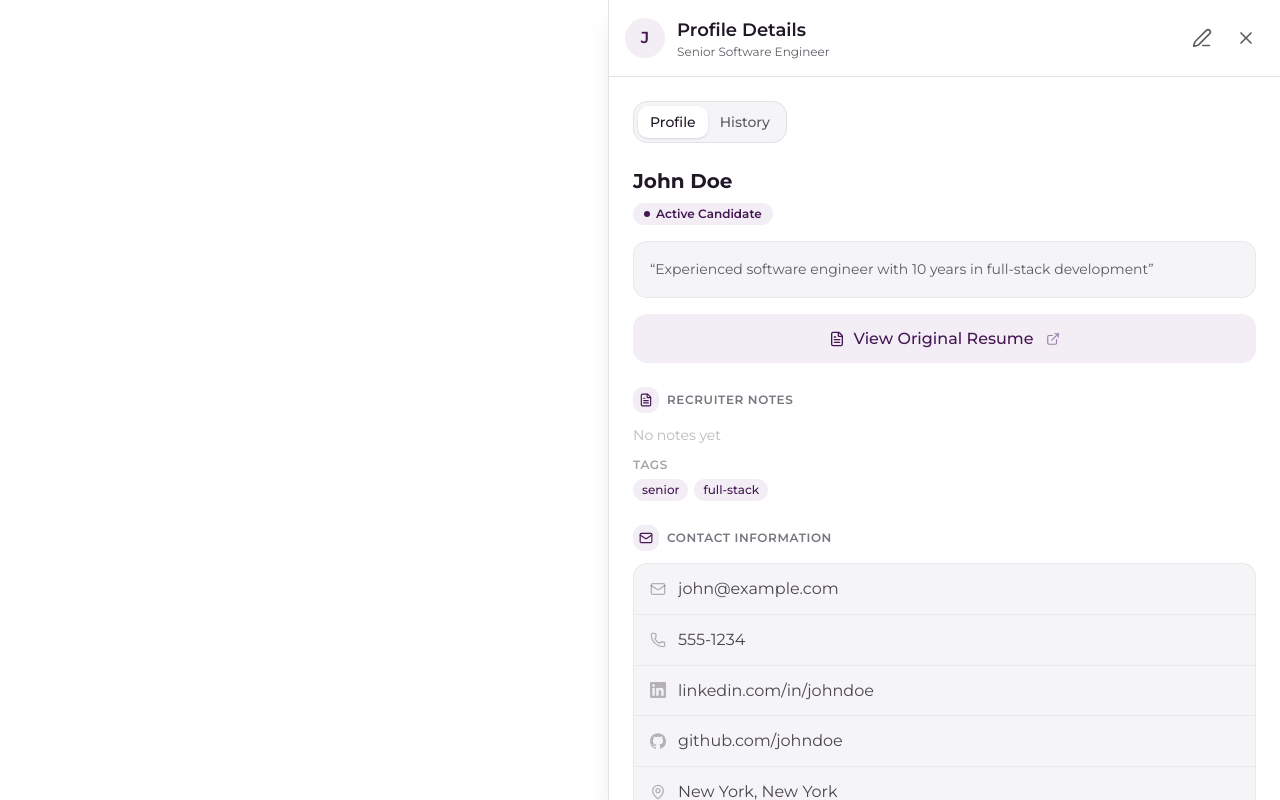
Test: ProfileDetailPanel › Save changes › shows saving state during save
Click the button named "Edit profile": [1202, 38] box [1184,20,1220,56]
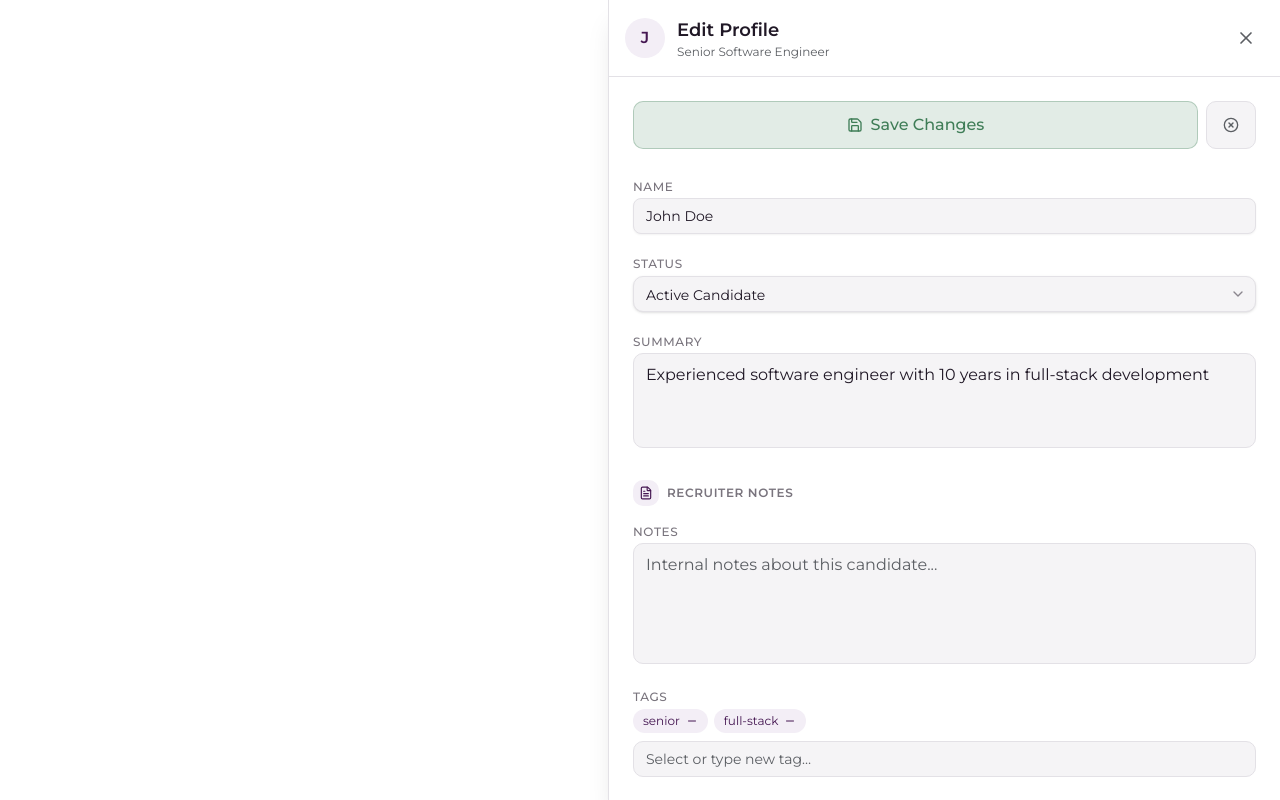
Change name
Replace the text in the field with placeholder "Full name" with "New Name": [944, 216] box [633,198,1256,234]
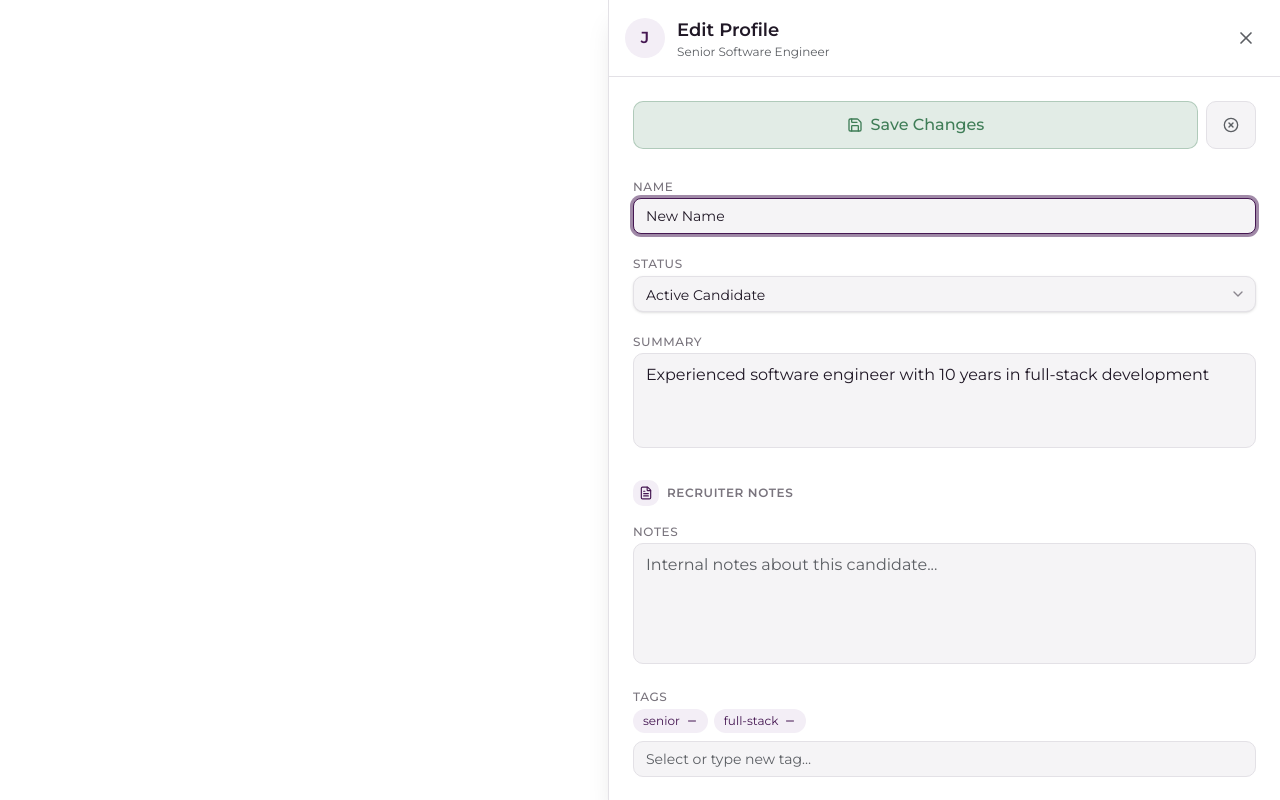
Click save
Click the button "Save Changes": [916, 125] box [633,101,1198,149]
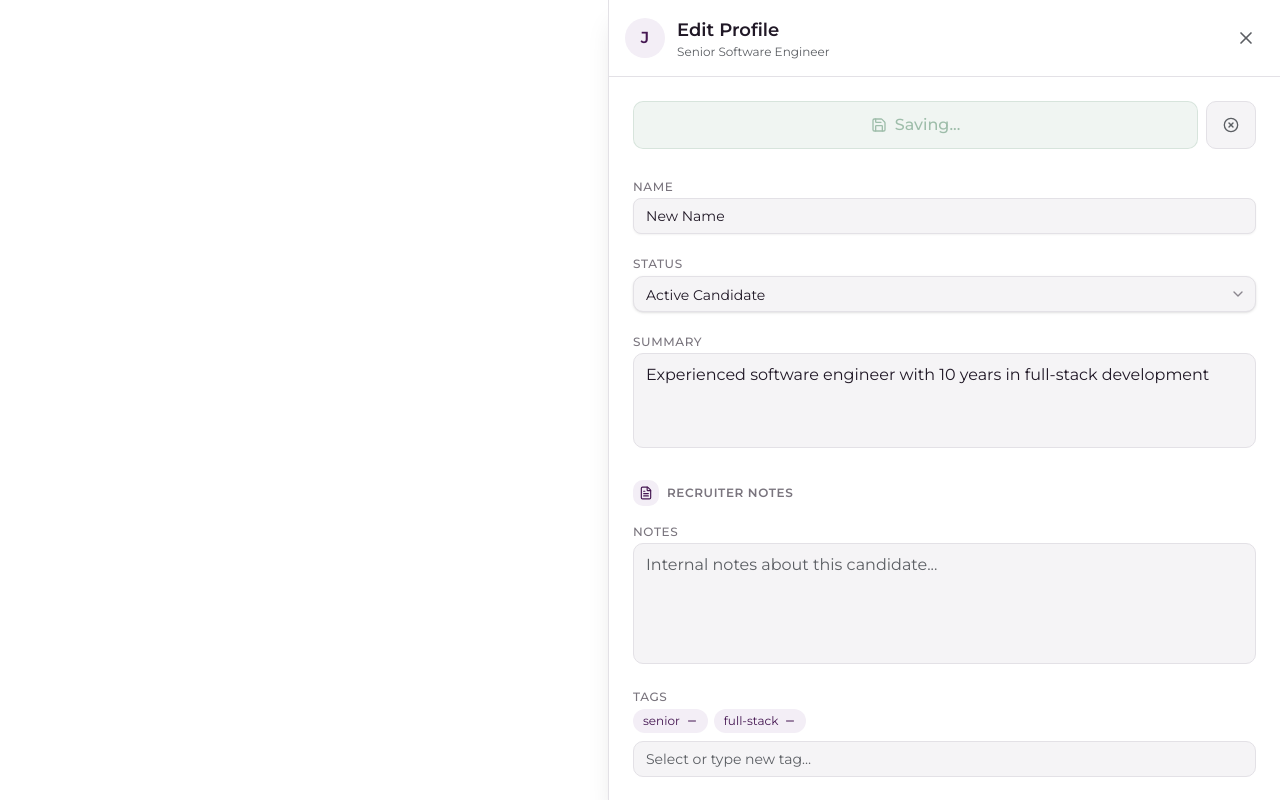
Check: the button "Saving..." is shown, box [633,101,1198,149]
